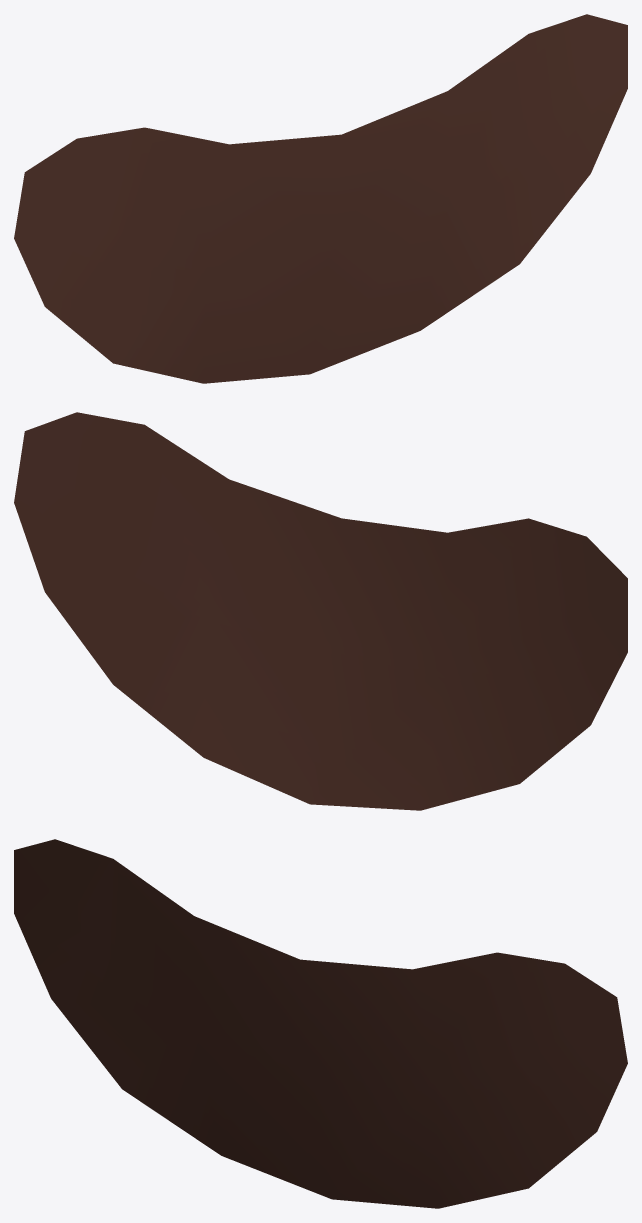
File: Mouth_Black_6.fbx
3 views of the same model, one above another, from view 1: azimuth 30°, elevation 25°; view 2: azimuth 150°, elevation 25°; view 3: azimuth 330°, elevation 25° (orthographic).
Visible parts, largest first — view 1: Mouth_Black_6; view 2: Mouth_Black_6; view 3: Mouth_Black_6.
Part boxes in pixels (x1,y1,x2,y2): Mouth_Black_6: [14, 14, 627, 383]; Mouth_Black_6: [14, 412, 627, 810]; Mouth_Black_6: [14, 839, 627, 1208].
Size of the model in its own units: 7.46 by 3.64 by 0.6651.
